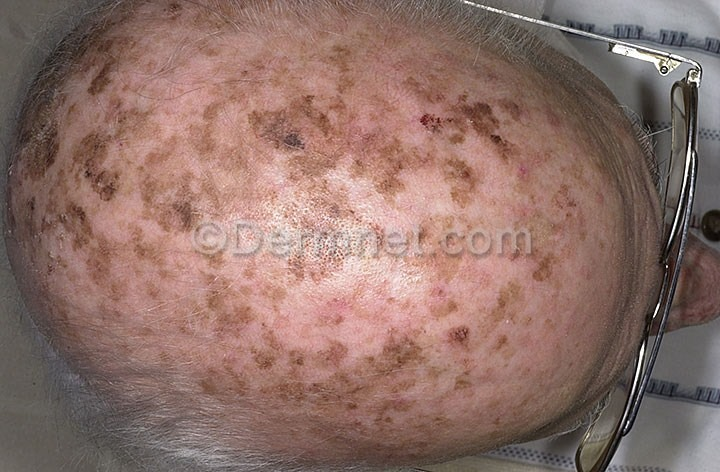Melasma: (12, 2, 503, 218), (67, 252, 567, 425)
